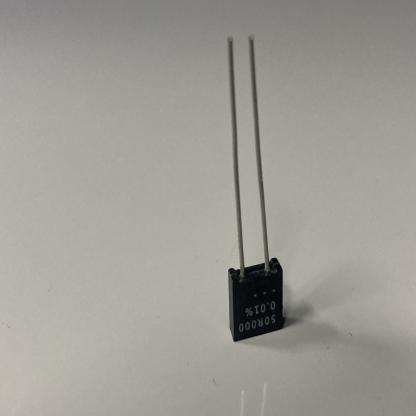SP0000008: (183, 29, 328, 374)
